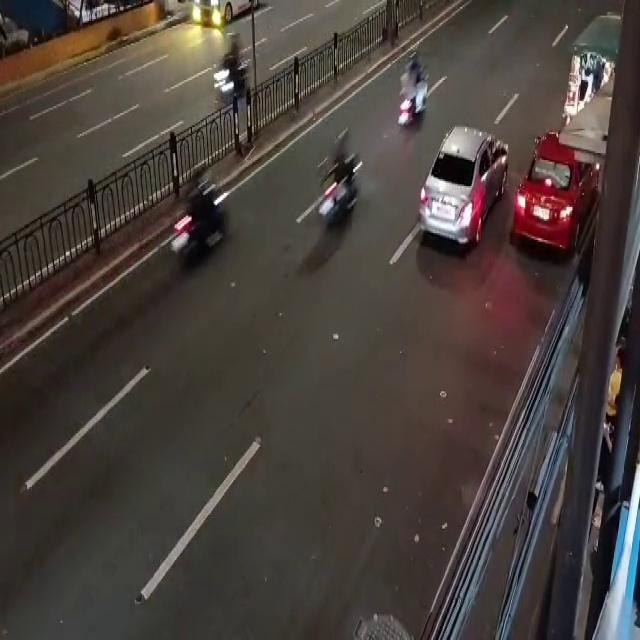car: (408, 117, 510, 260)
